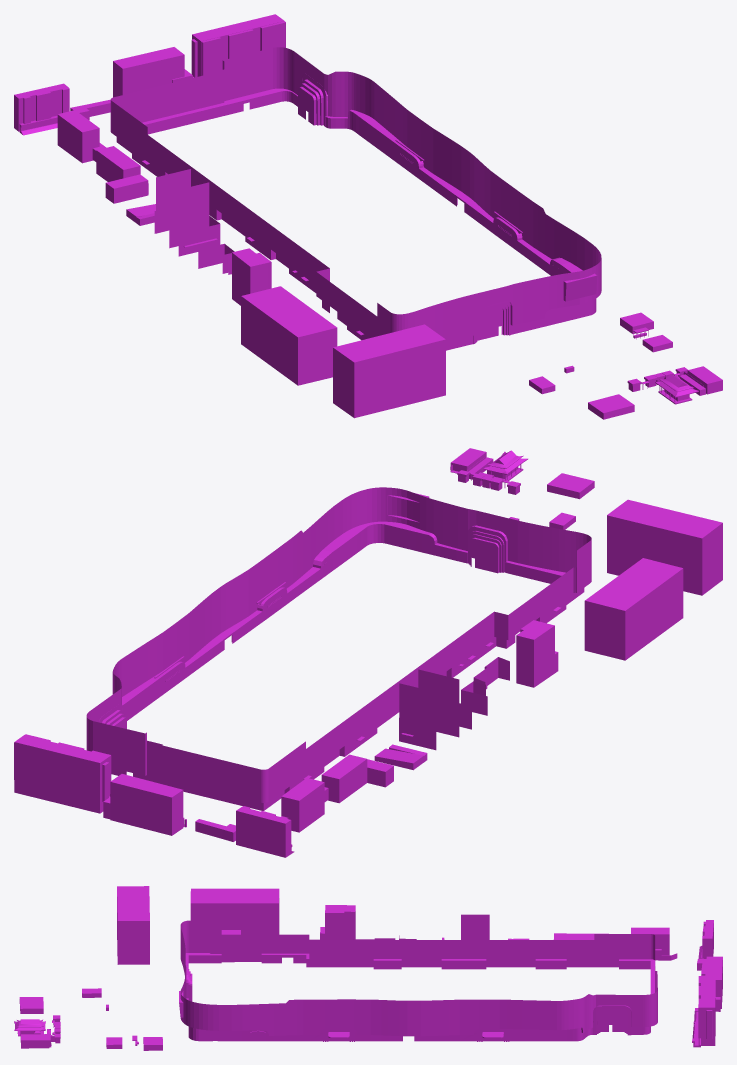
Rendered from TaiYuan_WanDaGuangChang_outdoor.FBX.
3 renders of one model, top to bottom at view 1: azimuth 30°, elevation 25°; view 2: azimuth 150°, elevation 25°; view 3: azimuth 270°, elevation 25°, orthographic. The views are drawn at different scales.
Parts seen in each view (by area): view 1: ty_wdgc_01, ty_wdgc_18, ty_wdgc_19, ty_wdgc_23, ty_wdgc_02, ty_wdgc_29, ty_wdgc_27, ty_wdgc_25, ty_wdgc_26, ty_wdgc_20, ty_wdgc_08, ty_wdgc_31 (+1 smaller); view 2: ty_wdgc_01, ty_wdgc_18, ty_wdgc_19, ty_wdgc_02, ty_wdgc_23, ty_wdgc_29, ty_wdgc_20, ty_wdgc_27, ty_wdgc_25, ty_wdgc_26, ty_wdgc_24, ty_wdgc_08 (+3 smaller); view 3: ty_wdgc_01, ty_wdgc_19, ty_wdgc_18, ty_wdgc_02, ty_wdgc_20, ty_wdgc_23, ty_wdgc_26, ty_wdgc_29, ty_wdgc_27, ty_wdgc_31, ty_wdgc_17, ty_wdgc_08 (+1 smaller).
Part boxes in pixels (box(x1,y1,x2,y2)): ty_wdgc_01: box(110, 47, 601, 350); ty_wdgc_18: box(333, 324, 445, 418); ty_wdgc_19: box(241, 286, 337, 385); ty_wdgc_23: box(154, 169, 220, 256); ty_wdgc_02: box(191, 14, 285, 77); ty_wdgc_29: box(113, 47, 192, 97); ty_wdgc_27: box(14, 83, 69, 135); ty_wdgc_25: box(96, 146, 148, 203); ty_wdgc_26: box(57, 110, 106, 163); ty_wdgc_20: box(232, 248, 271, 305); ty_wdgc_08: box(588, 394, 634, 419); ty_wdgc_31: box(655, 374, 698, 404); ty_wdgc_01: box(86, 487, 591, 810); ty_wdgc_18: box(607, 499, 722, 595); ty_wdgc_19: box(584, 558, 683, 660); ty_wdgc_02: box(14, 734, 111, 813); ty_wdgc_23: box(399, 669, 471, 750); ty_wdgc_29: box(103, 774, 186, 835); ty_wdgc_20: box(516, 620, 558, 687); ty_wdgc_27: box(236, 806, 294, 857); ty_wdgc_25: box(321, 754, 393, 803); ty_wdgc_26: box(281, 778, 328, 832); ty_wdgc_24: box(374, 744, 427, 770); ty_wdgc_08: box(547, 473, 594, 499); ty_wdgc_01: box(179, 920, 657, 1041); ty_wdgc_19: box(190, 888, 279, 934); ty_wdgc_18: box(117, 886, 149, 964); ty_wdgc_02: box(692, 975, 715, 1047); ty_wdgc_20: box(320, 905, 355, 939); ty_wdgc_23: box(442, 914, 489, 939); ty_wdgc_26: box(631, 927, 677, 960); ty_wdgc_29: box(705, 956, 722, 1011); ty_wdgc_27: box(698, 920, 713, 958); ty_wdgc_31: box(14, 1019, 45, 1036); ty_wdgc_17: box(20, 1034, 51, 1048); ty_wdgc_08: box(19, 997, 43, 1013).
Size of the model in its own units: 183 by 31.52 by 441.
